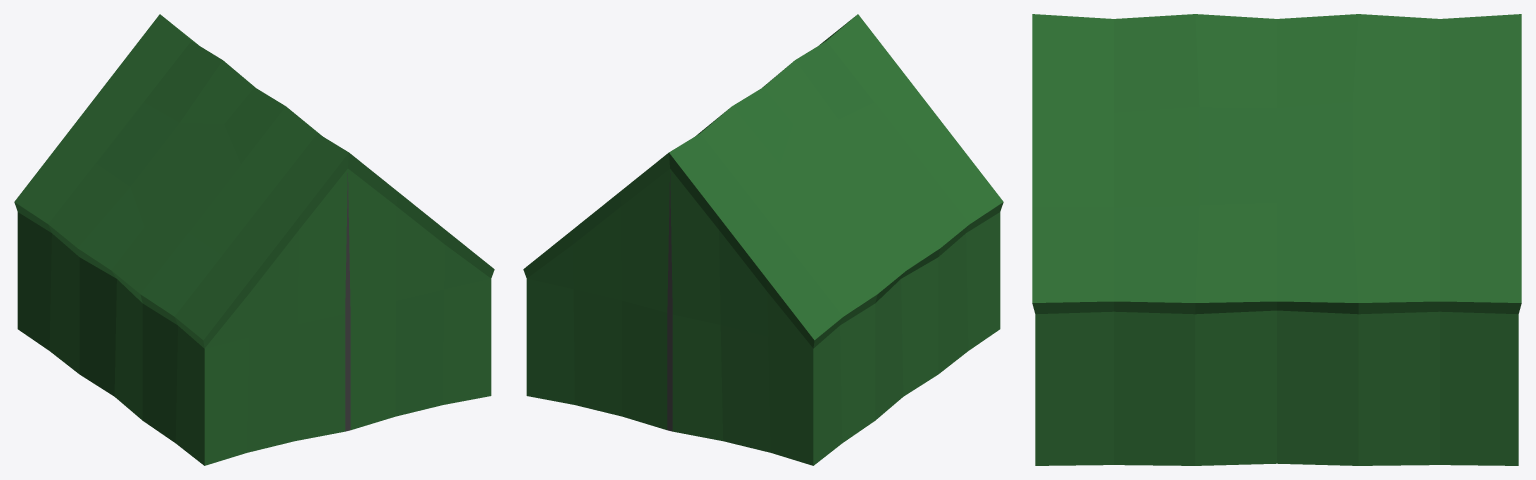
The model's file is tent-war.fbx.
The picture shows the model from 3 angles, left to right: view 1: azimuth 30°, elevation 25°; view 2: azimuth 150°, elevation 25°; view 3: azimuth 270°, elevation 25°; orthographic projection. The views are drawn at different scales.
Visible parts, largest first — view 1: tent-war; view 2: tent-war; view 3: tent-war.
Part boxes in pixels (bbox=[...]): tent-war: bbox=[14, 14, 494, 465]; tent-war: bbox=[523, 14, 1003, 465]; tent-war: bbox=[1032, 14, 1521, 465].
Bounding box in the file's own units: 3 × 2.75 × 3.38.
